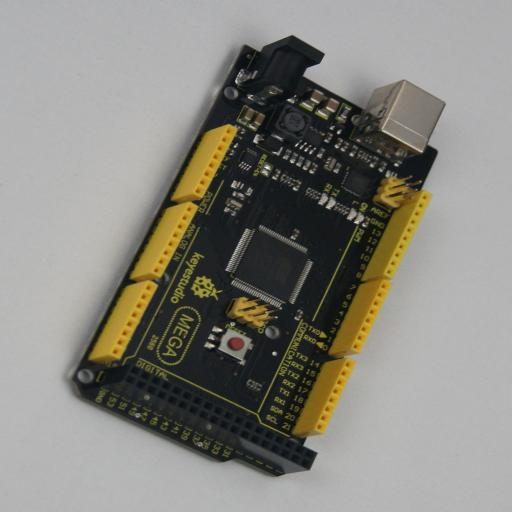Arduino Mega 2560 -Black and Yellow-: (69, 35, 445, 477)
